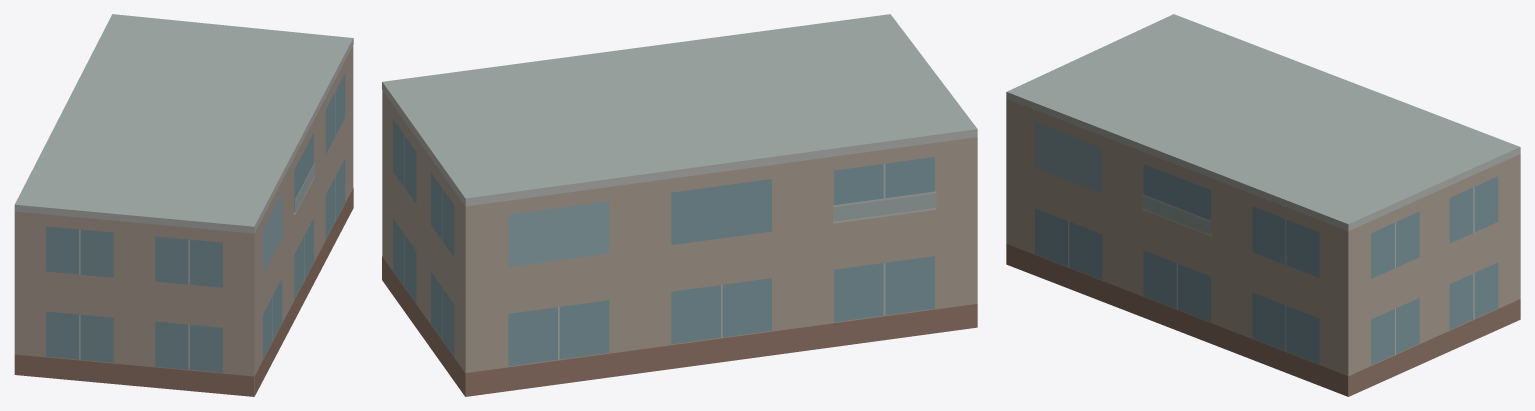
The model's file is survey-upis-32907953.glb.
The picture shows the model from 3 angles, left to right: view 1: azimuth 30°, elevation 25°; view 2: azimuth 150°, elevation 25°; view 3: azimuth 270°, elevation 25°; orthographic projection. The views are drawn at different scales.
Parts seen in each view (by area): view 1: survey-upis-32907953.tmp; view 2: survey-upis-32907953.tmp; view 3: survey-upis-32907953.tmp.
Part boxes in pixels (x1,y1,x2,y2): survey-upis-32907953.tmp: [14, 14, 353, 396]; survey-upis-32907953.tmp: [382, 14, 977, 396]; survey-upis-32907953.tmp: [1006, 14, 1520, 396].
Size of the model in its own units: 15.94 by 6.1 by 16.47.
